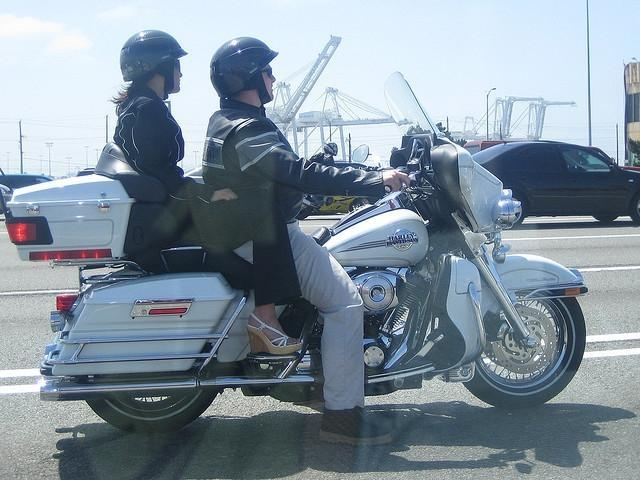car: (473, 140, 640, 226), (1, 174, 57, 190), (0, 184, 14, 215)
motorcycle: (0, 71, 588, 432)
